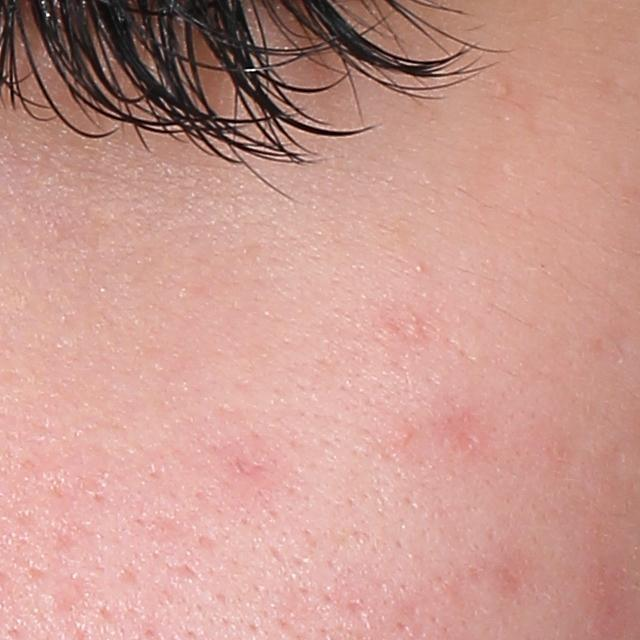comedo: (494, 81, 510, 99), (413, 263, 425, 274)
